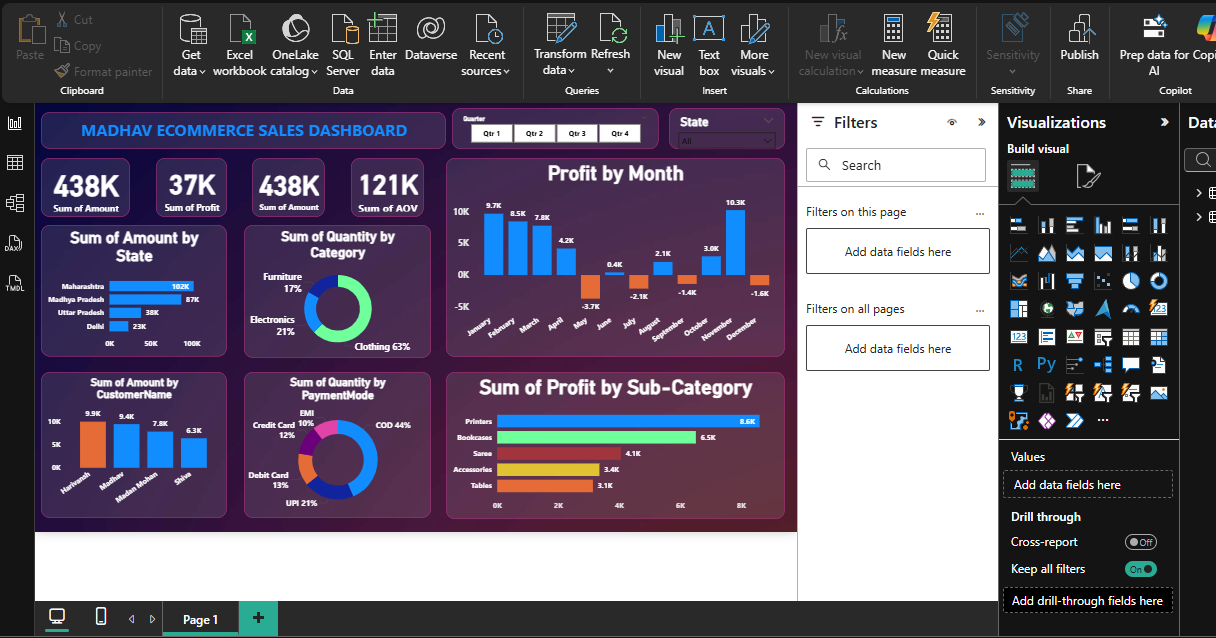

The page's visual inventory and layout, read from the dashboard file:
{"tool":"powerbi","page":{"name":"Page 1","canvas":[1280,720],"ordinal":0},"visuals":[{"type":"textbox","box":[10.1,15.1,680.3,62.2],"z":0},{"type":"columnChart","title":"Profit by Month","fields":{"Y":["Details.Profit"],"Category":["Orders.Order Date.Variation.Date Hierarchy.Month"]},"box":[691.2,92.3,568.7,333.8],"z":1000},{"type":"barChart","fields":{"Category":["Details.Sub-Category"],"Y":["Details.Profit"]},"box":[691.2,451.3,568.7,246.6],"z":2000},{"type":"donutChart","fields":{"Category":["Details.Category"],"Y":["Details.Quantity"]},"box":[350.6,204.7,313.7,223.1],"z":3000},{"type":"donutChart","fields":{"Y":["Details.Quantity"],"Category":["Details.PaymentMode"]},"box":[350.6,451.3,313.7,244.9],"z":4000},{"type":"card","fields":{"Values":["Details.Amount"]},"box":[10.1,92.3,149.3,99],"z":5000},{"type":"card","fields":{"Values":["Details.Profit"]},"box":[202.4,92.3,119.1,99],"z":6000},{"type":"card","fields":{"Values":["Details.Amount"]},"box":[364.6,92.3,122.5,99],"z":7000},{"type":"card","fields":{"Values":["Details.AOV"]},"box":[530.1,92.3,122.5,99],"z":8000},{"type":"barChart","fields":{"Category":["Orders.State"],"Y":["Details.Amount"]},"box":[10.1,204.7,312,221.4],"z":9000},{"type":"columnChart","fields":{"Category":["Orders.CustomerName"],"Y":["Details.Amount"]},"box":[10.1,451.3,312,244.9],"z":10000},{"type":"slicer","fields":{"Values":["Orders.Order Date.Variation.Date Hierarchy.Quarter"]},"box":[701.2,8.4,347.3,68.8],"z":11000},{"type":"slicer","fields":{"Values":["Orders.State"]},"box":[1065.3,8.4,194.6,68.8],"z":12000}]}

Visuals, with their boxes on the page's 1280x720 design canvas (x1, y1, x2, y2). These are canvas units, not pixel positions in the 1216x638 screenshot, which may show the page scaled, cropped or inside an application window:
textbox: Rect(10, 15, 690, 77)
"Profit by Month" columnChart: Rect(691, 92, 1260, 426)
barChart - Details.Sub-Category x Details.Profit: Rect(691, 451, 1260, 698)
donutChart - Details.Category x Details.Quantity: Rect(351, 205, 664, 428)
donutChart - Details.Quantity x Details.PaymentMode: Rect(351, 451, 664, 696)
card - Details.Amount: Rect(10, 92, 159, 191)
card - Details.Profit: Rect(202, 92, 322, 191)
card - Details.Amount: Rect(365, 92, 487, 191)
card - Details.AOV: Rect(530, 92, 653, 191)
barChart - Orders.State x Details.Amount: Rect(10, 205, 322, 426)
columnChart - Orders.CustomerName x Details.Amount: Rect(10, 451, 322, 696)
slicer - Orders.Order Date.Variation.Date Hierarchy.Quarter: Rect(701, 8, 1048, 77)
slicer - Orders.State: Rect(1065, 8, 1260, 77)
